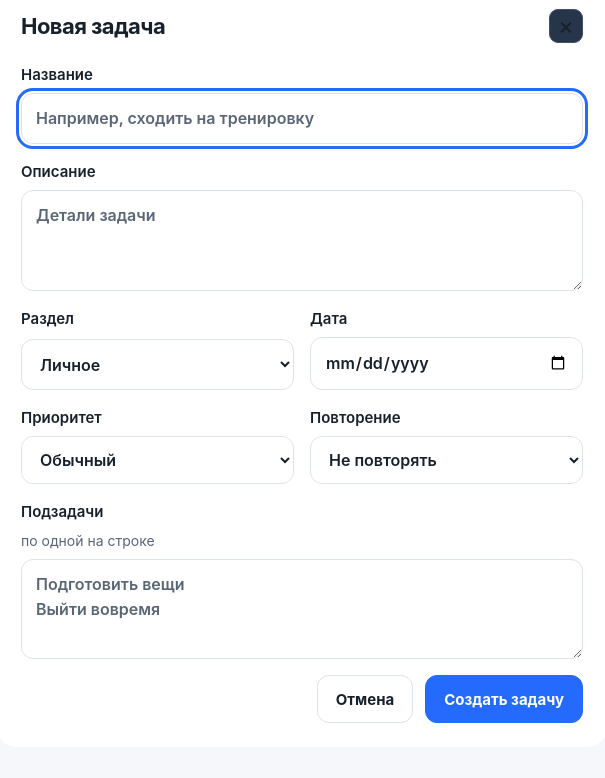
Test case: failed task save keeps the draft and allows retry
In the field labelled "Название": x=302, y=119 [21,93,583,144], type "Пробежка утром"
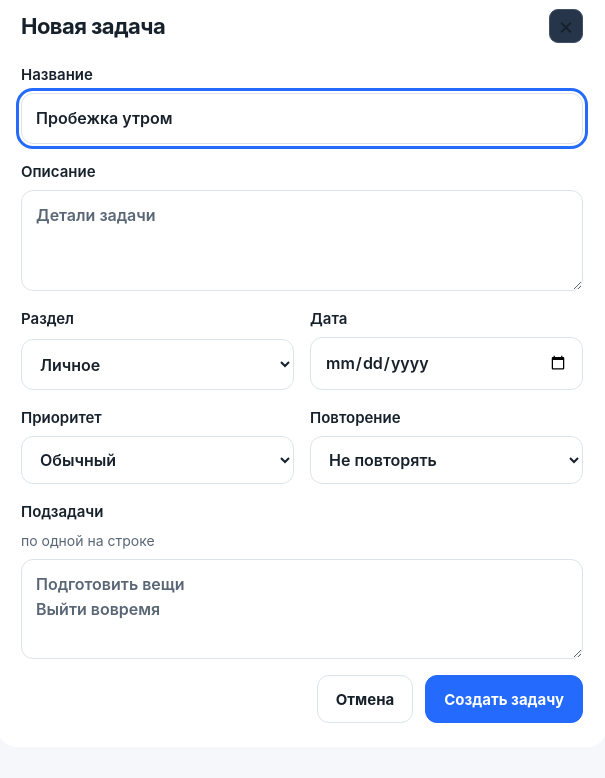
Click the button "Создать задачу": x=504, y=699 [425,675,583,723]
(page scrolled)
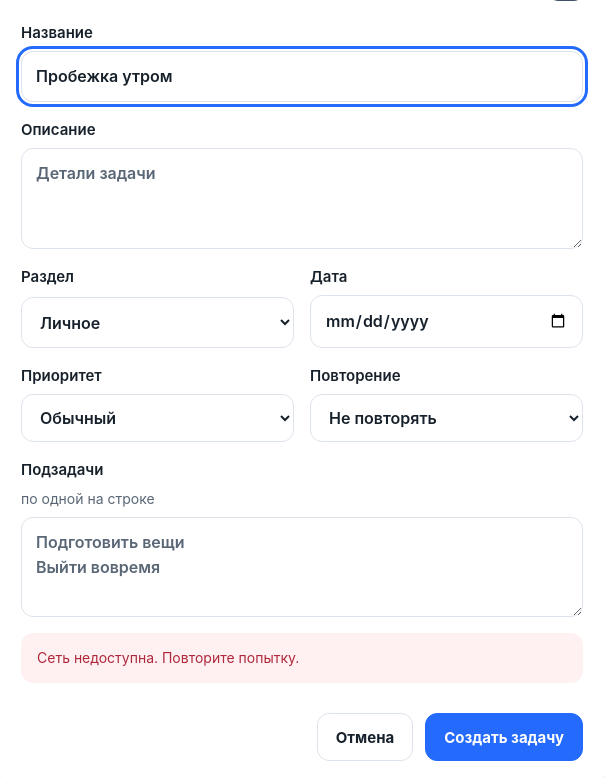
Expected: the button "Создать задачу" is enabled, [425,713,583,761]
Result: the message shows "Сеть недоступна" at [37,649,299,666]
